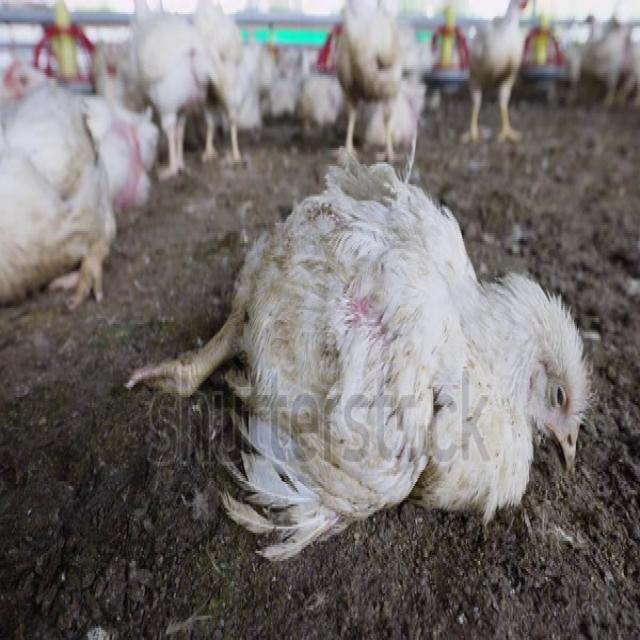injured-animals: (122, 148, 595, 567)
